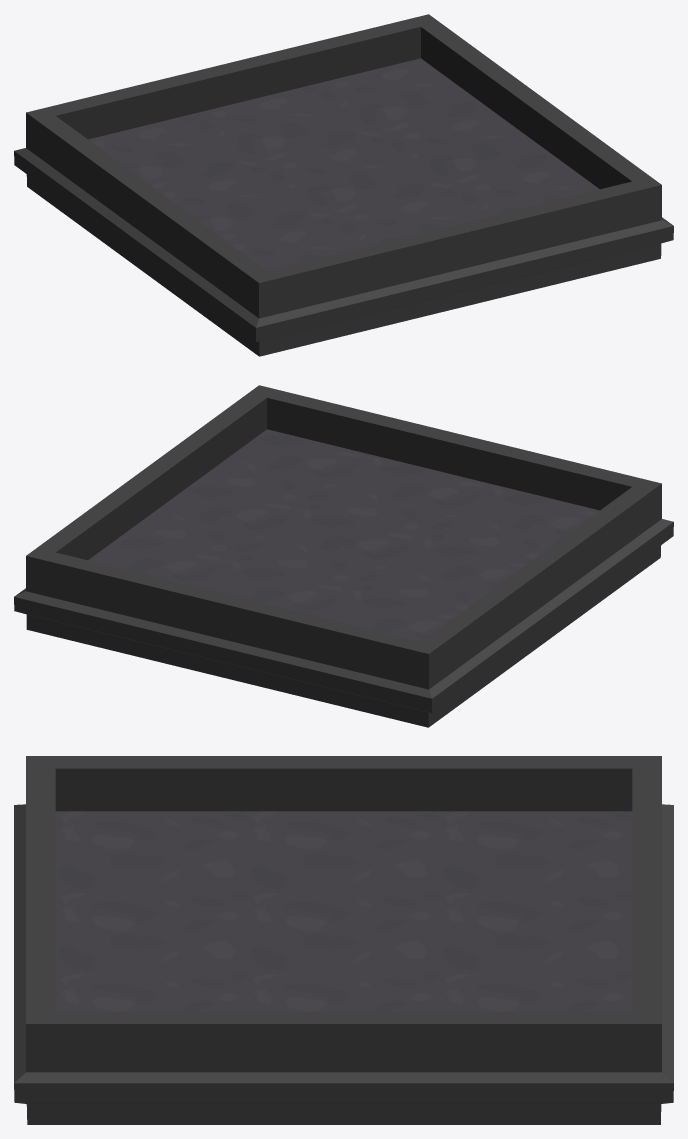
The model's file is RoofTop_D04.fbx.
The picture shows the model from 3 angles, top to bottom: view 1: azimuth 30°, elevation 25°; view 2: azimuth 150°, elevation 25°; view 3: azimuth 270°, elevation 25°; orthographic projection. The views are drawn at different scales.
Parts seen in each view (by area): view 1: RoofTop_D04; view 2: RoofTop_D04; view 3: RoofTop_D04.
Boxes of the visible parts, left/top/right/bottom form: RoofTop_D04: left=14, top=14, right=673, bottom=356; RoofTop_D04: left=14, top=385, right=673, bottom=727; RoofTop_D04: left=14, top=756, right=673, bottom=1124.
Bounding box in the file's own units: 638 × 108 × 639.
